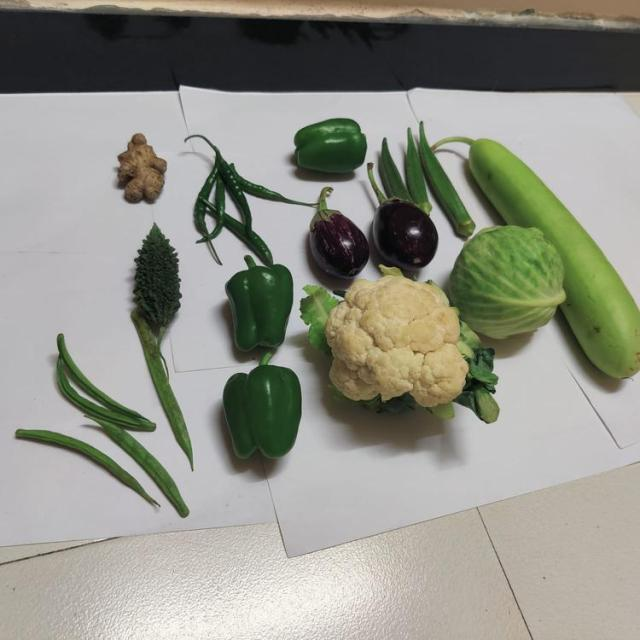Organik: (19, 335, 188, 513), (310, 280, 490, 419), (449, 222, 569, 334), (217, 365, 306, 467), (203, 148, 273, 252), (225, 262, 299, 358), (382, 123, 450, 207), (308, 189, 372, 275), (137, 224, 184, 341), (367, 194, 438, 269), (112, 127, 170, 206), (293, 117, 369, 175)
